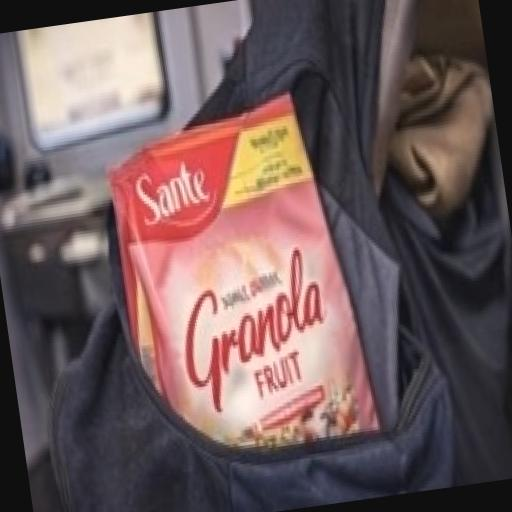granola: (68, 69, 418, 502)
